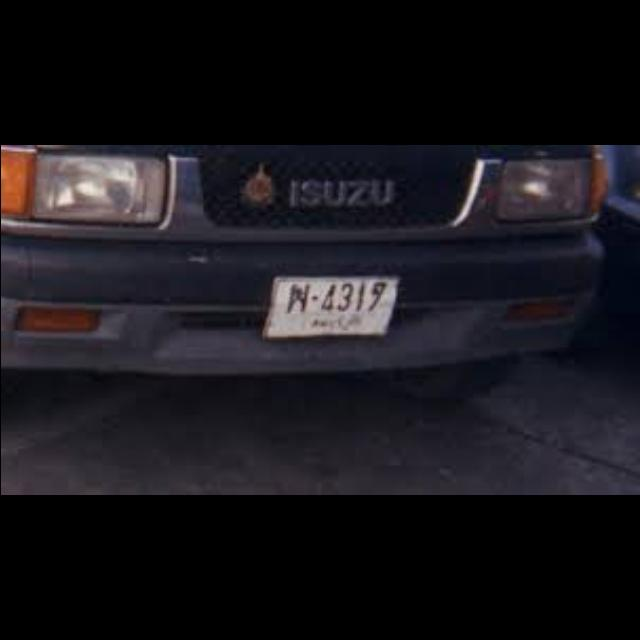licenseplate: (260, 273, 402, 341)
